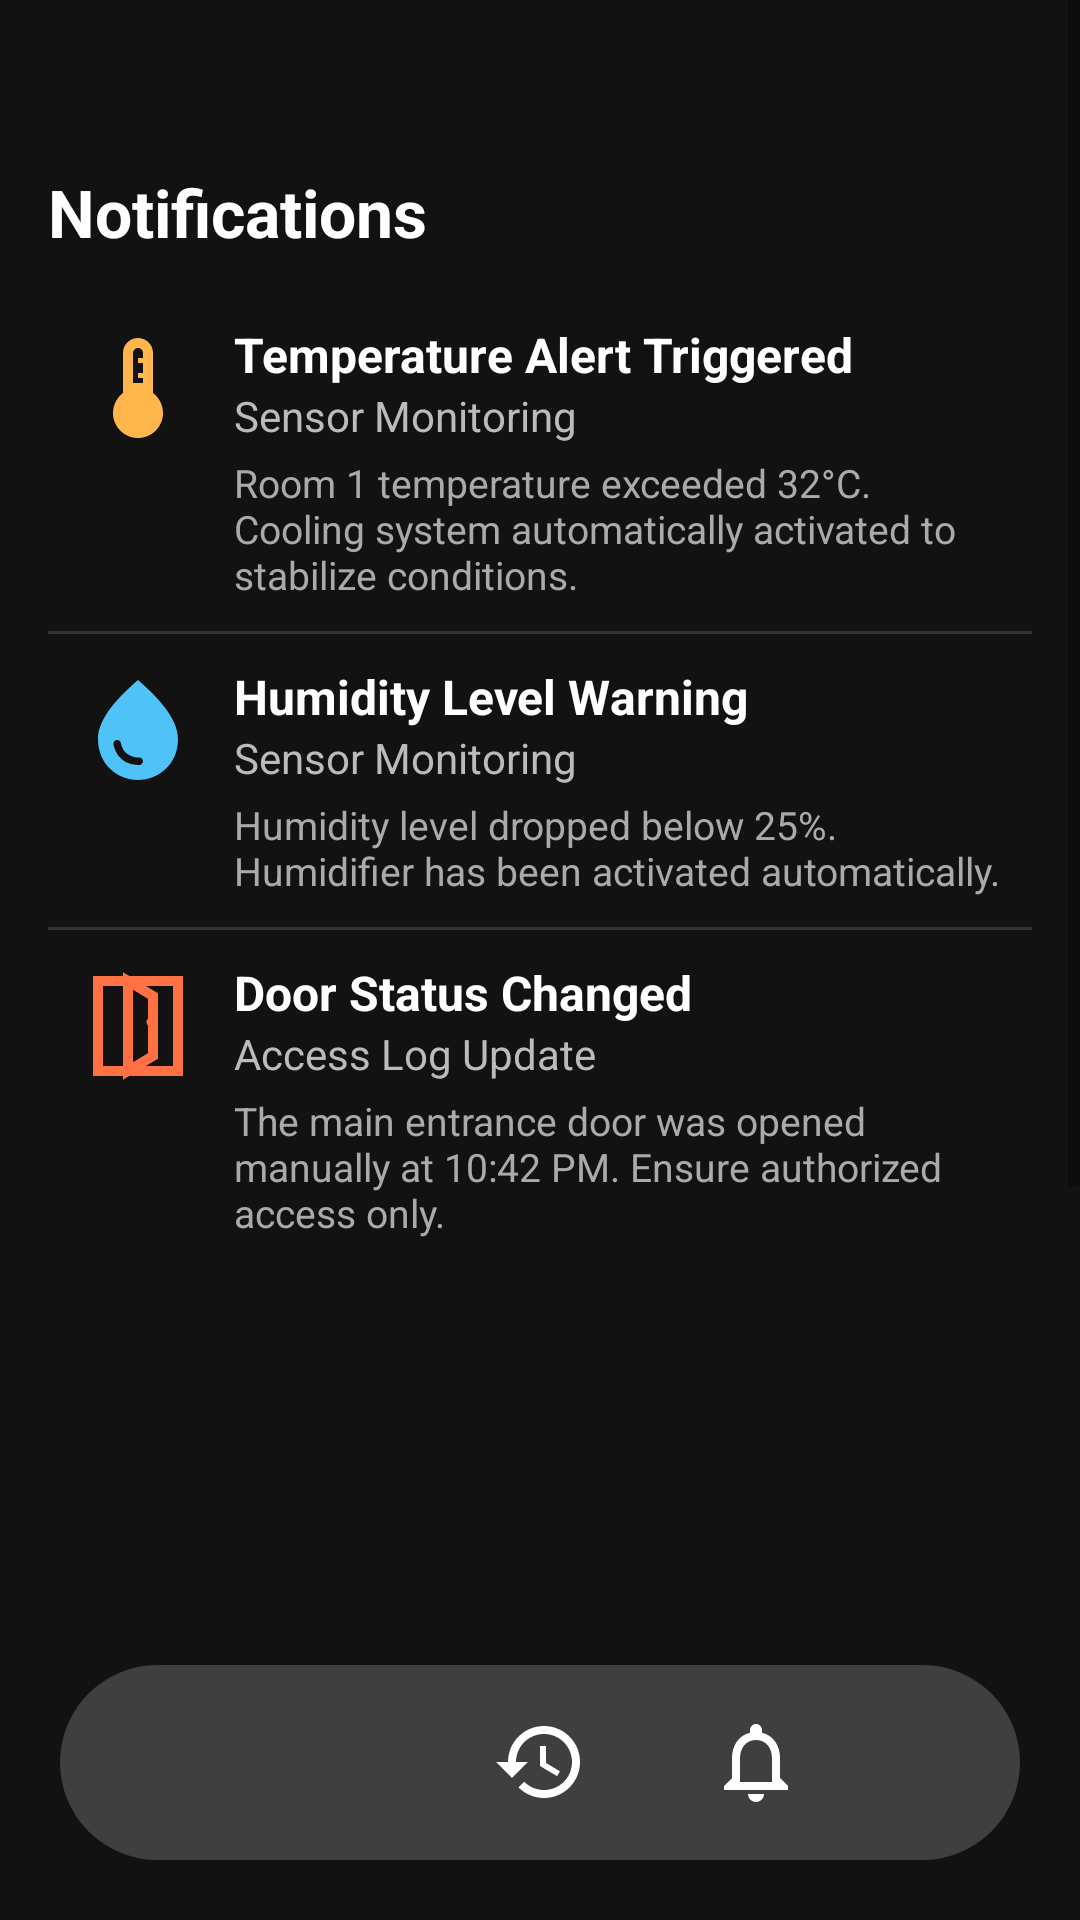

Icon bounding boxes for this 1080px×1920px phone screenshot, format (x1,y1,x2,y2):
door open notification: (93,972,183,1080)
history: (496,1726,580,1798)
notifications none: (724,1724,788,1802)
thermostat: (113,338,163,438)
water drop: (98,680,178,780)
